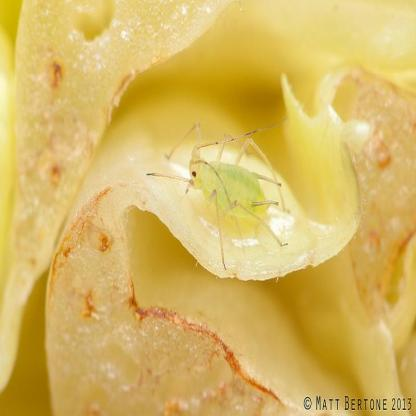aphid: (162, 119, 286, 256)
